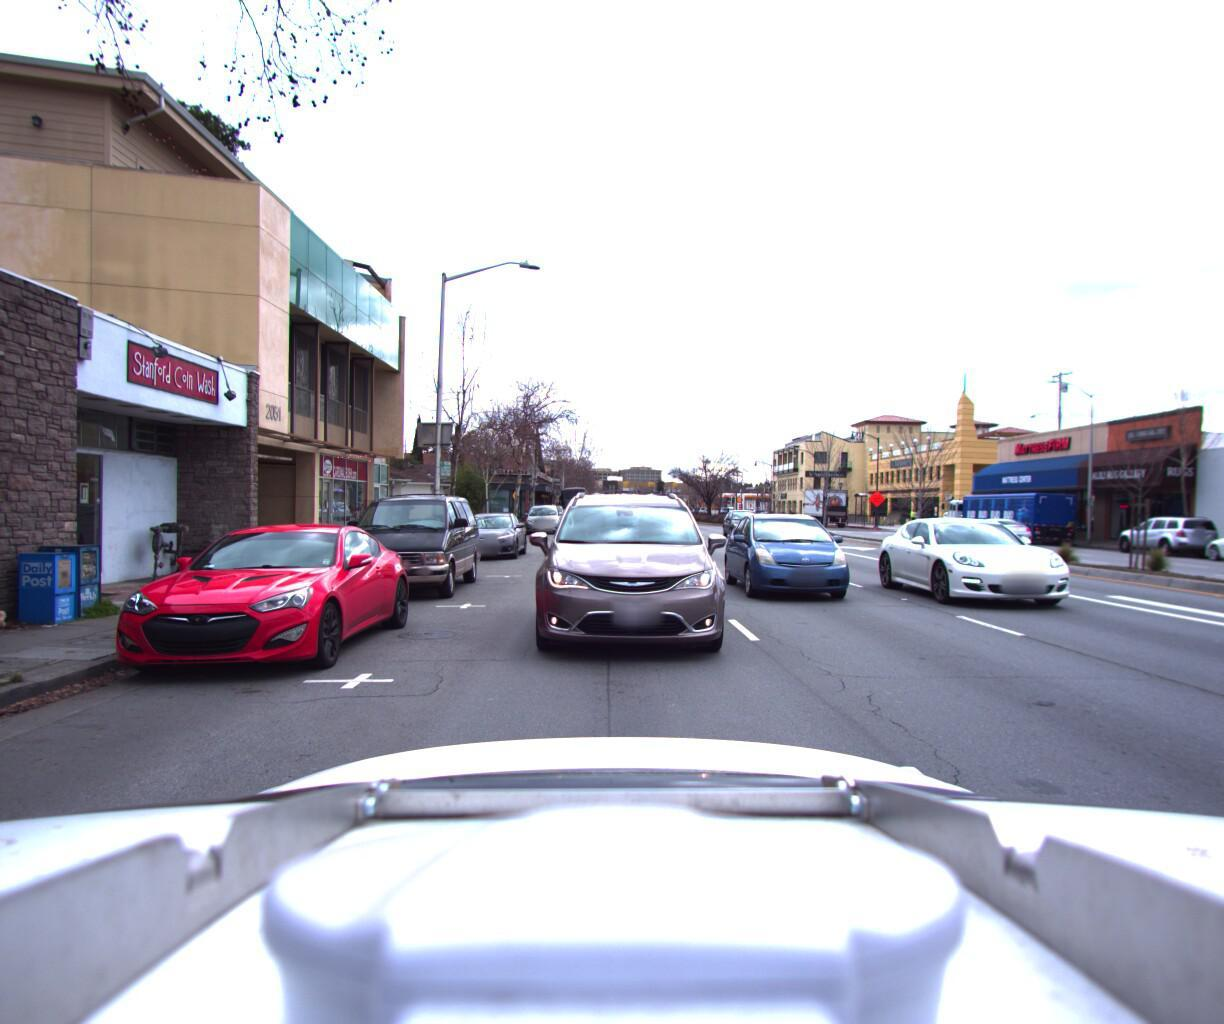bus: (557, 482, 590, 521)
car: (90, 507, 431, 696), (513, 470, 730, 677), (888, 513, 1139, 628), (331, 476, 494, 605), (728, 506, 893, 622), (1110, 510, 1224, 553), (455, 501, 533, 560), (723, 506, 770, 539), (524, 495, 564, 532), (1198, 518, 1224, 563)
truck: (932, 492, 1081, 542)
